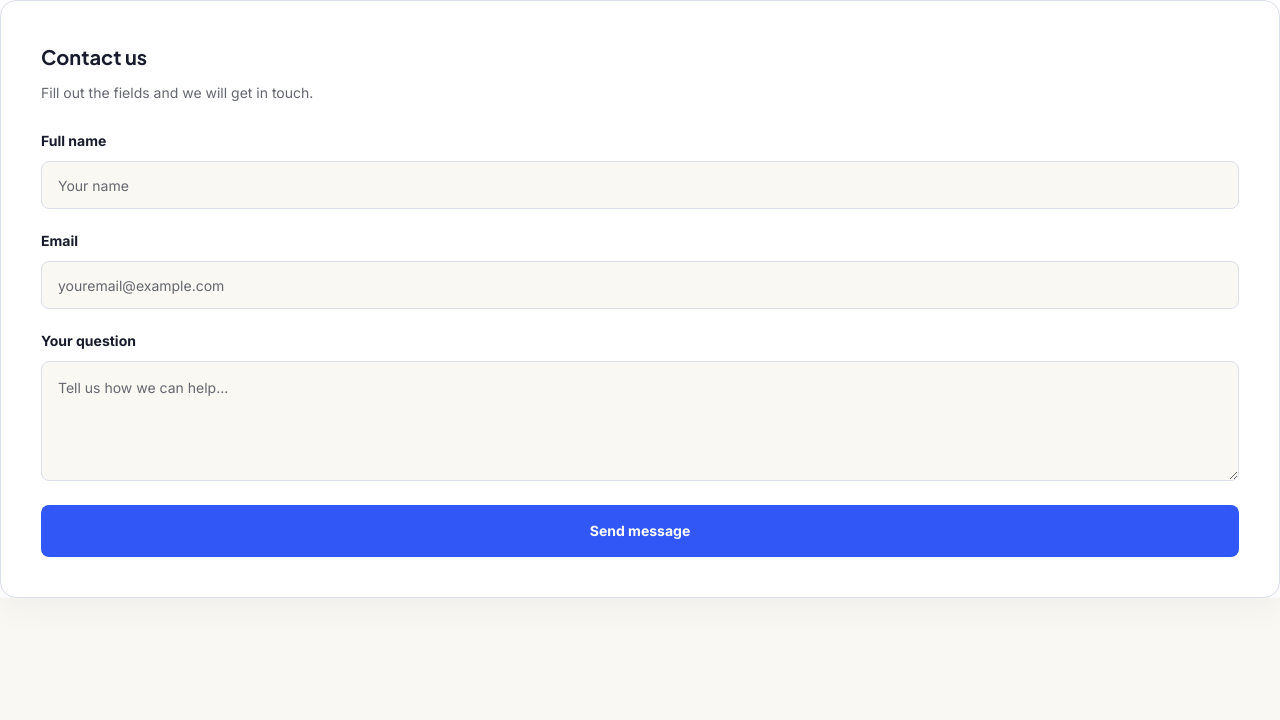
Test: ContactForm › shows an error for each empty field and moves focus to the first one
The image size is (1280, 720).
Click the button "Send message".
click(640, 531)  # box [41, 505, 1239, 557]
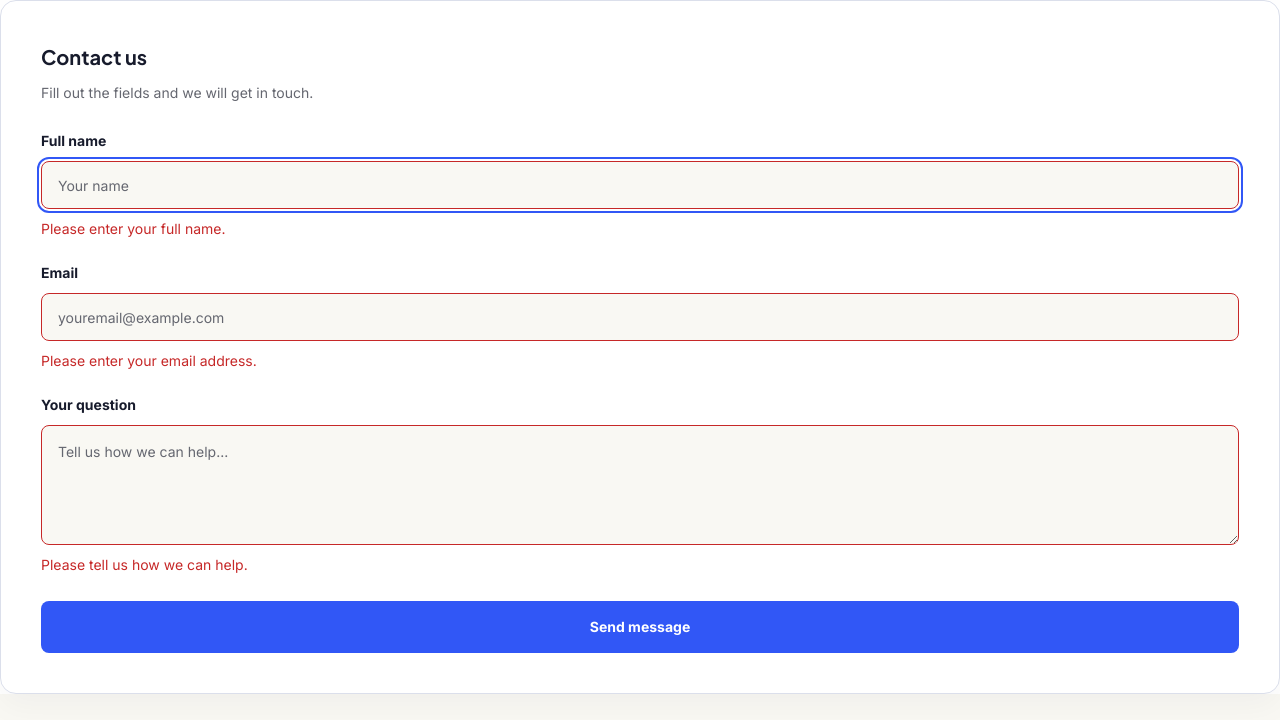
Result: the field labelled "Email" is marked as invalid at [41, 293, 1239, 341]
Result: the text box labelled "Your question" is marked as invalid at [41, 425, 1239, 545]
